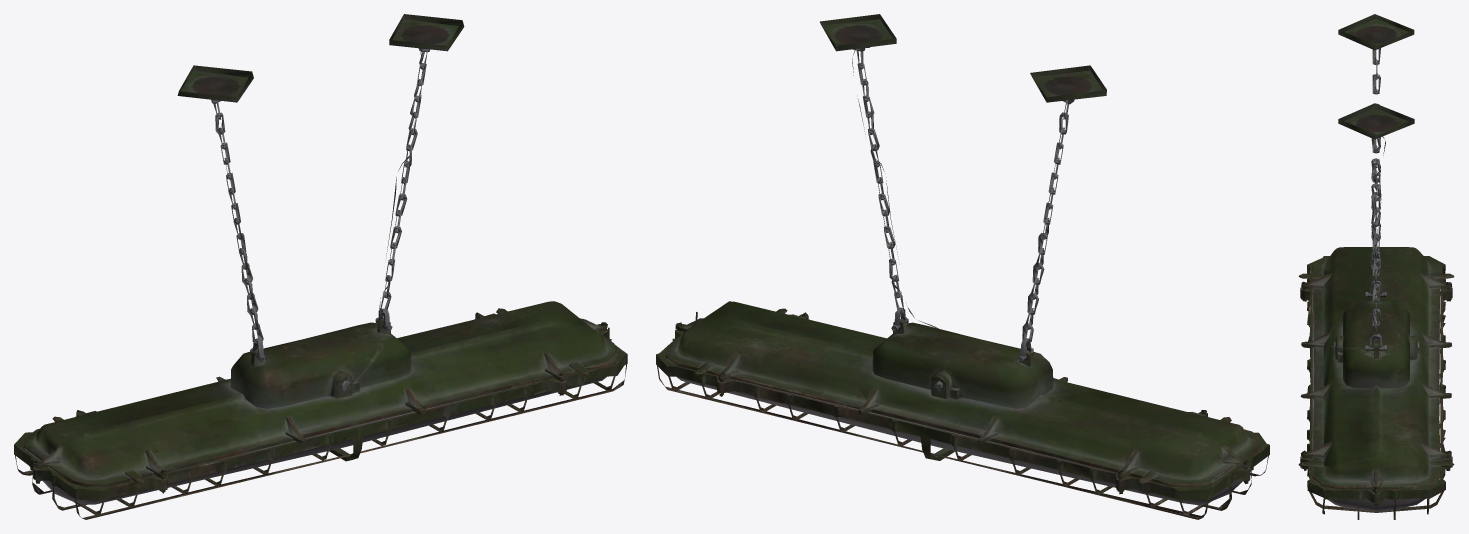
The model's file is hanging_light.glb.
The picture shows the model from 3 angles, left to right: view 1: azimuth 30°, elevation 25°; view 2: azimuth 150°, elevation 25°; view 3: azimuth 270°, elevation 25°; orthographic projection. The views are drawn at different scales.
Parts seen in each view (by area): view 1: caged_hanging_light; view 2: caged_hanging_light; view 3: caged_hanging_light.
Boxes of the visible parts, x1,y1,x2,y2 form: caged_hanging_light: [14, 14, 627, 519]; caged_hanging_light: [656, 14, 1269, 519]; caged_hanging_light: [1298, 14, 1454, 519].
Size of the model in its own units: 1.16 by 0.7501 by 0.3149.
Materials: 1 (1 with a texture image).
